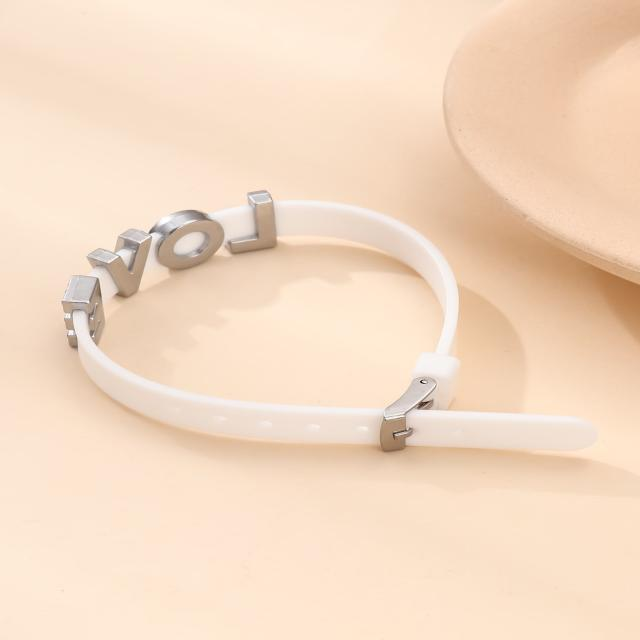bracelet: (22, 132, 640, 530)
